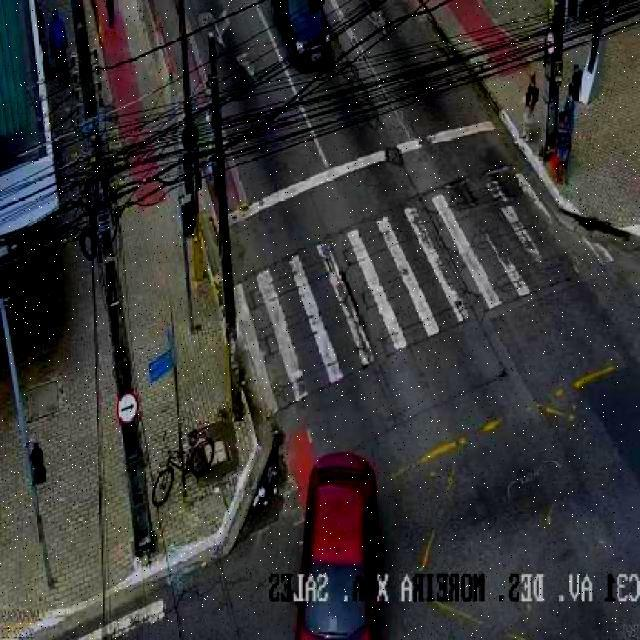Car: (294, 451, 384, 640), (270, 0, 339, 69)
Cycle: (148, 426, 216, 511)
